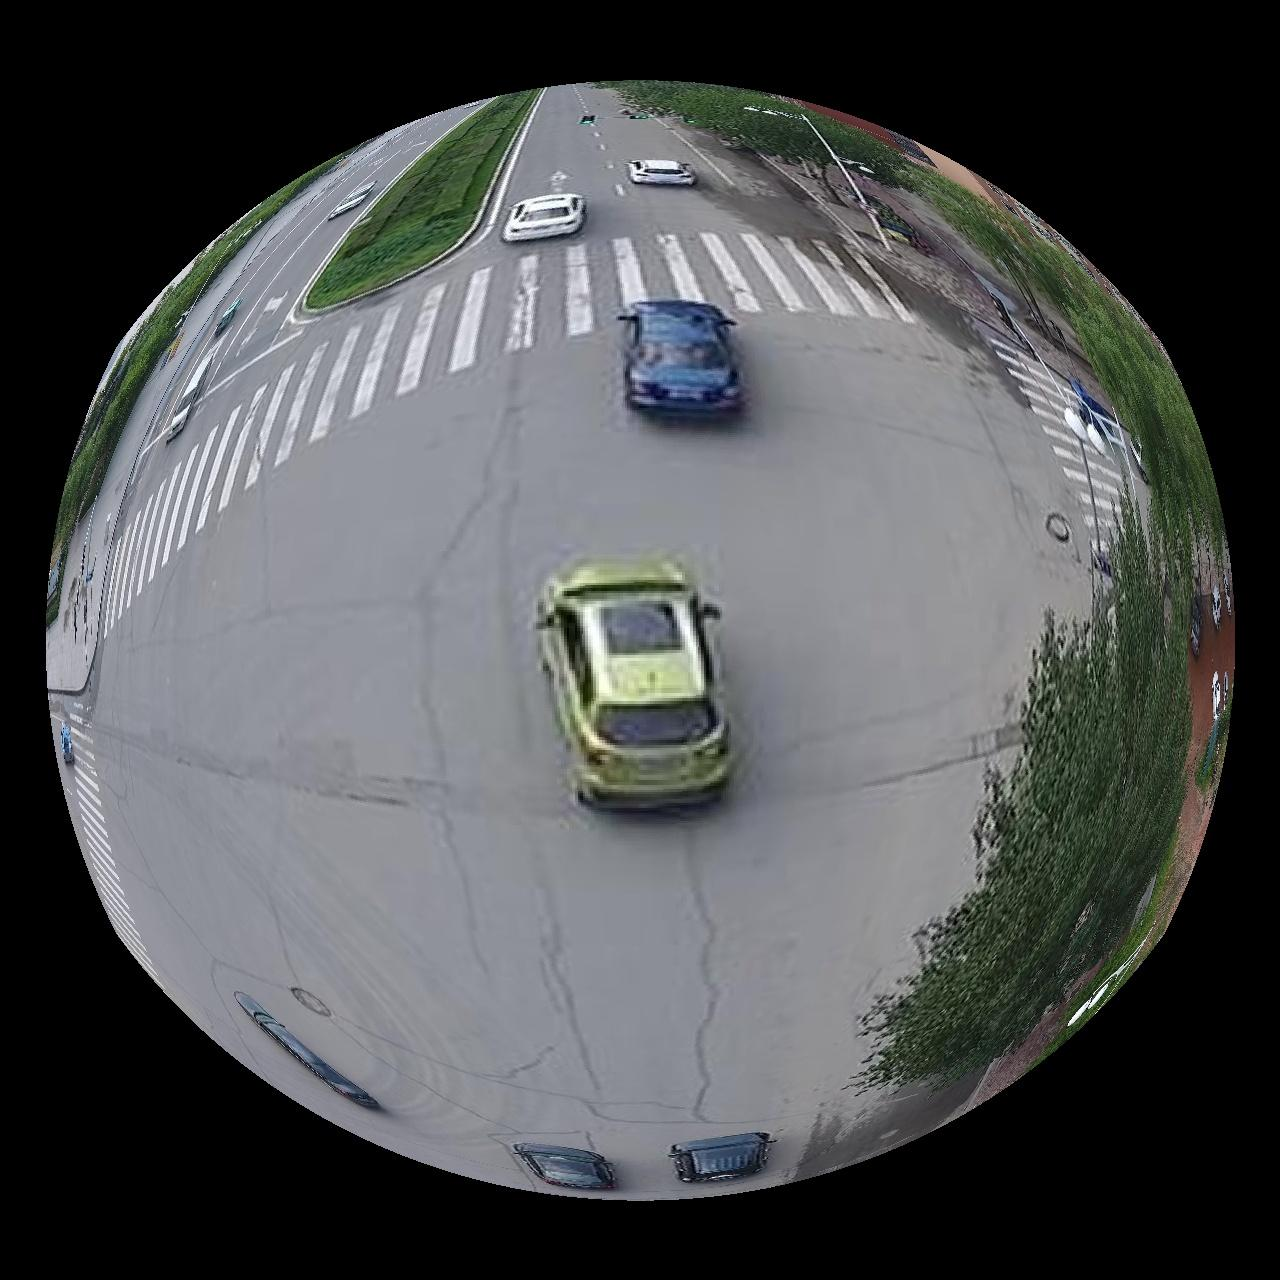cars: (537, 554, 731, 811), (233, 993, 377, 1111), (618, 299, 745, 411), (670, 1133, 775, 1185), (513, 1145, 617, 1192), (502, 191, 587, 240), (627, 158, 697, 185)
trees: (608, 80, 1224, 549), (863, 504, 1194, 1088)
